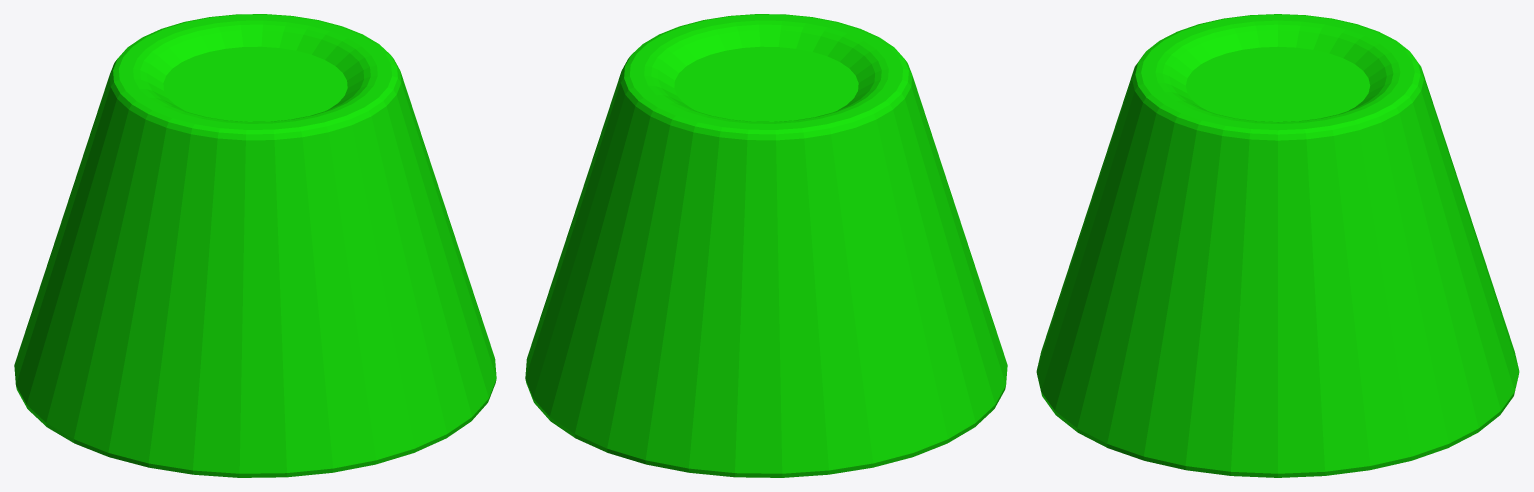
The model's file is GumDropSmall.fbx.
The picture shows the model from 3 angles, left to right: view 1: azimuth 30°, elevation 25°; view 2: azimuth 150°, elevation 25°; view 3: azimuth 270°, elevation 25°; orthographic projection.
Visible parts, largest first — view 1: GumDropSmall; view 2: GumDropSmall; view 3: GumDropSmall.
Boxes of the visible parts, x1,y1,x2,y2 form: GumDropSmall: [14, 14, 496, 477]; GumDropSmall: [525, 14, 1007, 477]; GumDropSmall: [1036, 14, 1519, 477].
Size of the model in its own units: 46.94 by 32.8 by 46.94.
